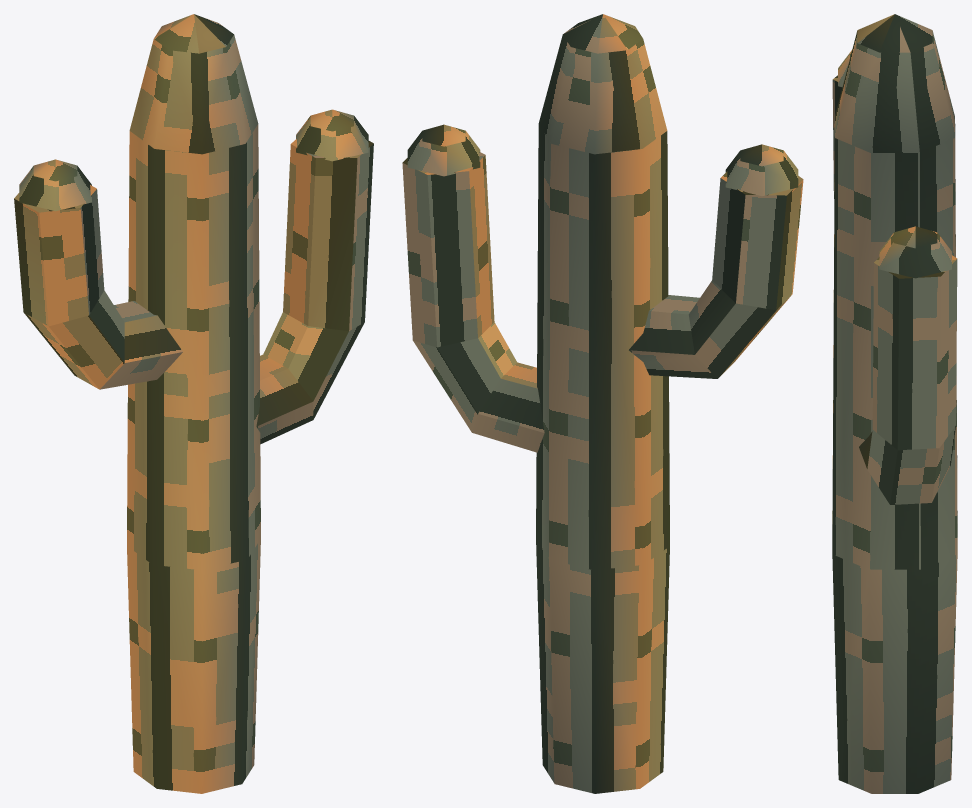
The model's file is wprop.cactus.glb.
3 views of the same model, side by side, from view 1: azimuth 30°, elevation 25°; view 2: azimuth 150°, elevation 25°; view 3: azimuth 270°, elevation 25° (orthographic).
Parts seen in each view (by area): view 1: kit_trunk, kit_arms, kit_tips; view 2: kit_trunk, kit_arms, kit_tips; view 3: kit_trunk, kit_arms, kit_tips.
Part boxes in pixels (x1,y1,x2,y2): kit_trunk: [127, 14, 260, 793]; kit_arms: [14, 139, 373, 444]; kit_tips: [19, 109, 368, 211]; kit_trunk: [536, 14, 669, 793]; kit_arms: [402, 152, 803, 452]; kit_tips: [407, 124, 798, 195]; kit_trunk: [832, 14, 957, 793]; kit_arms: [832, 75, 957, 504]; kit_tips: [838, 50, 951, 278].
Bounding box in the file's own units: 1.64 × 3.2 × 0.4804.
Materials: 1 (1 with a texture image).
